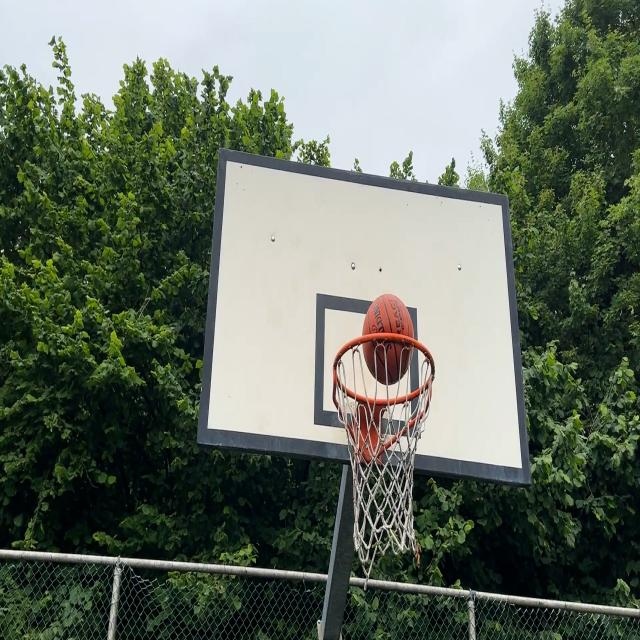rebound_hit: (362, 296, 415, 385)
